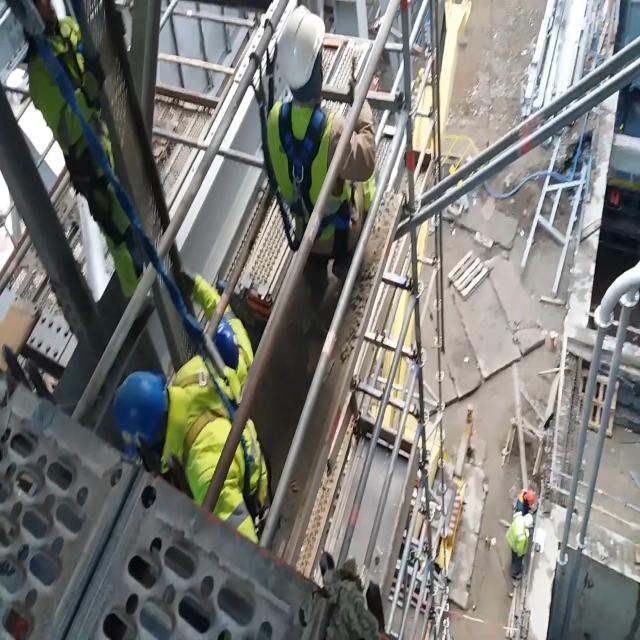belt: (158, 358, 269, 502), (273, 85, 355, 252)
